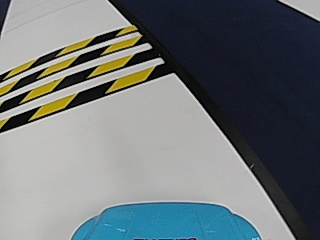bump: (7, 31, 136, 117)
